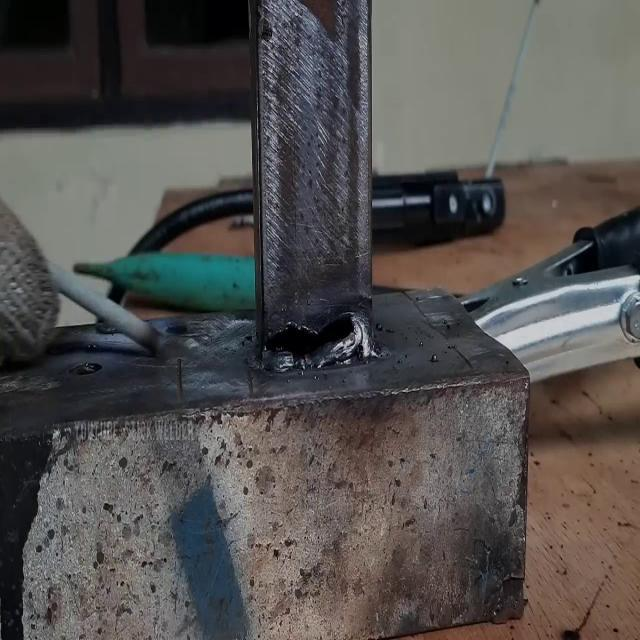Bad Weld: (260, 310, 382, 370)
